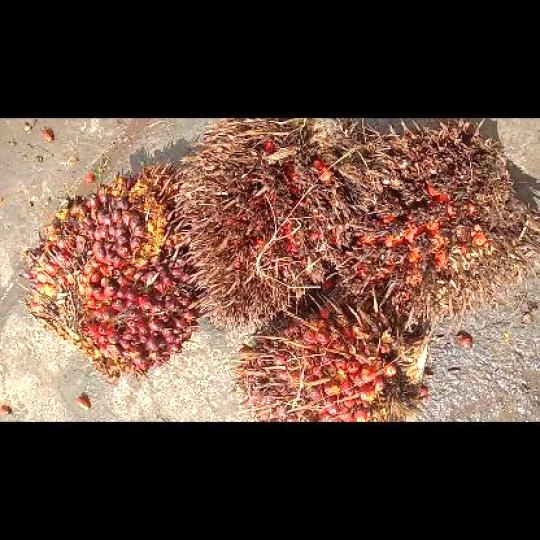masak: (18, 162, 205, 378), (230, 294, 426, 420)
terlalu masak: (337, 118, 538, 339), (170, 118, 380, 329)
